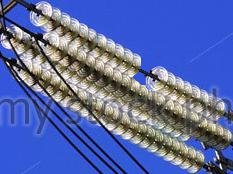gap: (125, 53, 168, 91)
